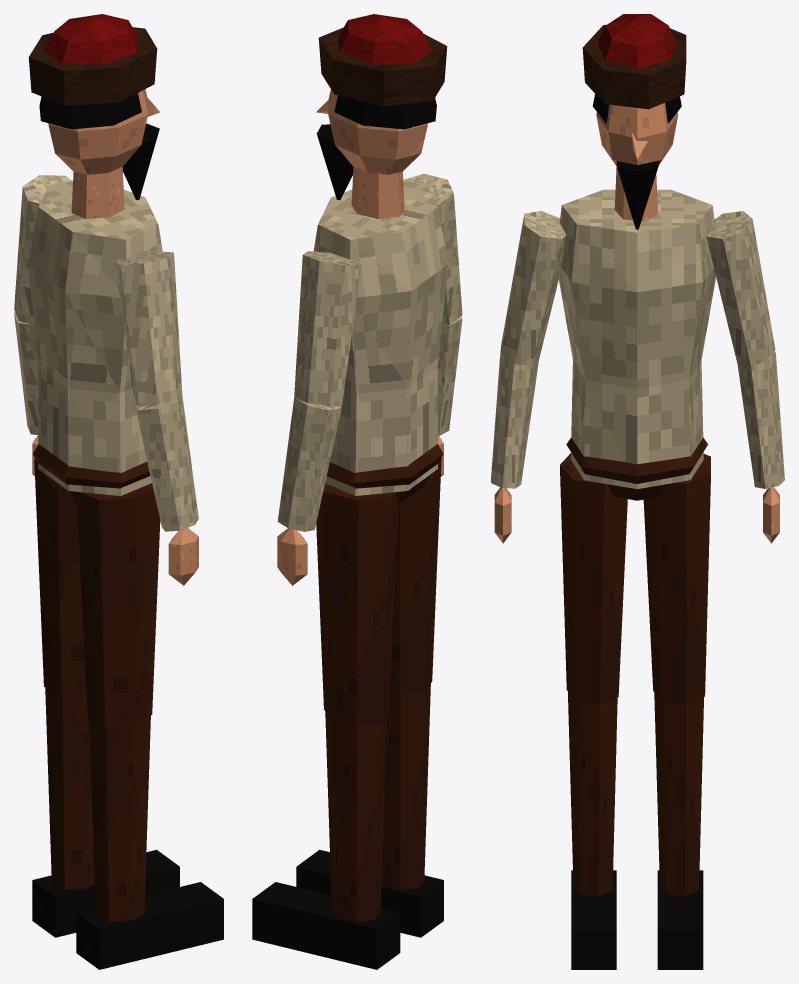
Rendered from pescador_fiordo.glb.
The picture shows the model from 3 angles, left to right: view 1: azimuth 30°, elevation 25°; view 2: azimuth 150°, elevation 25°; view 3: azimuth 270°, elevation 25°; orthographic projection.
Visible parts, largest first — view 1: torso, muslo_der, pierna_der, muslo_izq, pierna_izq, brazo_der, pie_der, gorro, antebrazo_der, cabeza, pie_izq, gorro_2 (+7 smaller); view 2: torso, muslo_izq, pierna_izq, muslo_der, pierna_der, brazo_izq, pie_izq, gorro, antebrazo_izq, cabeza, pie_der, gorro_2 (+7 smaller); view 3: torso, muslo_der, muslo_izq, pierna_izq, pierna_der, brazo_izq, brazo_der, gorro, antebrazo_izq, antebrazo_der, cabeza, pie_izq (+7 smaller).
Boxes of the visible parts, left/top/right/bottom form: torso: left=28, top=181, right=162, bottom=495; muslo_der: left=76, top=483, right=160, bottom=725; pierna_der: left=89, top=715, right=150, bottom=921; muslo_izq: left=34, top=458, right=86, bottom=694; pierna_izq: left=45, top=687, right=94, bottom=889; brazo_der: left=115, top=251, right=182, bottom=406; pie_der: left=76, top=882, right=223, bottom=969; gorro: left=28, top=27, right=157, bottom=105; antebrazo_der: left=134, top=396, right=198, bottom=531; cabeza: left=48, top=89, right=160, bottom=174; pie_izq: left=32, top=849, right=179, bottom=937; gorro_2: left=44, top=14, right=137, bottom=64; torso: left=313, top=181, right=448, bottom=495; muslo_izq: left=316, top=483, right=398, bottom=726; pierna_izq: left=325, top=712, right=386, bottom=921; muslo_der: left=389, top=458, right=441, bottom=694; pierna_der: left=381, top=684, right=430, bottom=889; brazo_izq: left=294, top=251, right=361, bottom=406; pie_izq: left=252, top=882, right=400, bottom=969; gorro: left=318, top=27, right=447, bottom=106; antebrazo_izq: left=277, top=397, right=341, bottom=531; cabeza: left=316, top=89, right=427, bottom=174; pie_der: left=296, top=849, right=443, bottom=937; gorro_2: left=338, top=14, right=432, bottom=64; torso: left=559, top=189, right=715, bottom=489; muslo_der: left=560, top=453, right=627, bottom=704; muslo_izq: left=643, top=454, right=710, bottom=704; pierna_izq: left=654, top=692, right=703, bottom=896; pierna_der: left=568, top=692, right=617, bottom=896; brazo_izq: left=706, top=211, right=775, bottom=366; brazo_der: left=501, top=211, right=566, bottom=365; gorro: left=582, top=24, right=686, bottom=109; antebrazo_izq: left=737, top=351, right=784, bottom=488; antebrazo_der: left=491, top=349, right=538, bottom=488; cabeza: left=596, top=102, right=677, bottom=166; pie_izq: left=657, top=870, right=703, bottom=969.
Bounding box in the file's own units: 0.3 × 1.7 × 0.5.
1 material, 1 textured.
